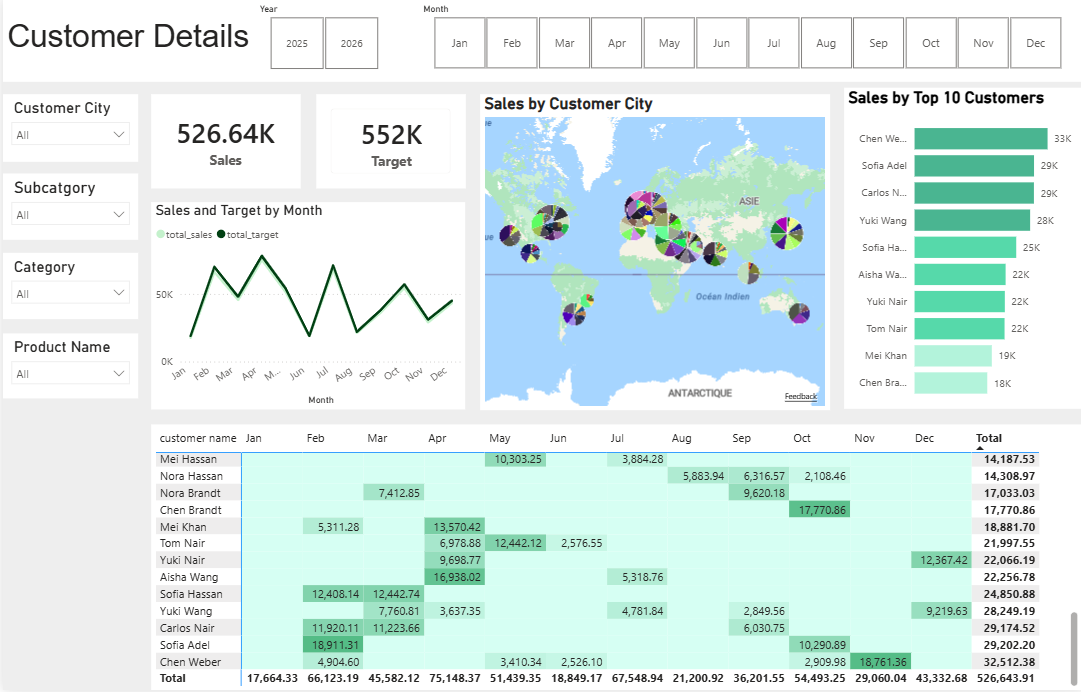

The page's visual inventory and layout, read from the dashboard file:
{"tool":"powerbi","page":{"name":"Customer Details","canvas":[1280,820],"ordinal":1},"visuals":[{"type":"textbox","box":[0,0,1280.5,99.5],"z":0},{"type":"slicer","title":"Month","fields":{"Values":["dim_date.Month Name"]},"box":[485,1.7,791.7,88.3],"z":1000},{"type":"slicer","fields":{"Values":["dim_product.subcatgory"]},"box":[0,208.3,160,78.3],"z":2000},{"type":"slicer","fields":{"Values":["dim_customer.city_name"]},"box":[0,113.3,160,80],"z":3000},{"type":"slicer","fields":{"Values":["dim_product.category"]},"box":[0,301.7,160,78.3],"z":4000},{"type":"slicer","fields":{"Values":["dim_product.product_name"]},"box":[0,396.7,160,76.7],"z":5000},{"type":"slicer","title":"Month","fields":{"Values":["dim_date.year"]},"box":[290.3,1.4,177.2,89.3],"z":6000},{"type":"lineChart","title":"Sales and Target by Month","fields":{"Y":["_mesure.total_sales","_mesure.total_target"],"Category":["dim_date.Month Name"]},"box":[175,241.7,371.7,245],"z":9000},{"type":"barChart","title":"Sales by Top 10 Customers","fields":{"Y":["_mesure.total_sales"],"Category":["dim_customer.contact_name"]},"box":[995,106.7,281.7,380],"z":10000},{"type":"azureMap","title":"Sales by Customer City","fields":{"Category":["dim_customer.city_name"],"Series":["fact_sale.line_total"],"Size":["Sum(fact_sale.line_total)"]},"box":[565,113.3,413.3,373.3],"z":12000},{"type":"cardVisual","title":"Sales","fields":{"Data":["_mesure.total_sales"]},"box":[175,113.3,176.7,111.7],"z":12001},{"type":"cardVisual","title":"Sales","fields":{"Data":["_mesure.total_target"]},"box":[370,113.3,176.7,111.7],"z":12002},{"type":"pivotTable","fields":{"Rows":["dim_customer.contact_name"],"Columns":["dim_date.Month Name"],"Values":["Sum(fact_sale.line_total)"]},"box":[175,505,1101.7,315],"z":12003}]}

Visuals, with their boxes in screenshot pixels (x1, y1, x2, y2), scaled from the page's 1280x820 canvas onto the 1081x692 screenshot:
textbox: box=[0, 0, 1080, 84]
"Month" slicer: box=[410, 1, 1078, 76]
slicer - dim_product.subcatgory: box=[0, 176, 135, 242]
slicer - dim_customer.city_name: box=[0, 96, 135, 163]
slicer - dim_product.category: box=[0, 255, 135, 321]
slicer - dim_product.product_name: box=[0, 335, 135, 400]
"Month" slicer: box=[245, 1, 395, 77]
"Sales and Target by Month" lineChart: box=[148, 204, 462, 411]
"Sales by Top 10 Customers" barChart: box=[840, 90, 1078, 411]
"Sales by Customer City" azureMap: box=[477, 96, 826, 411]
"Sales" cardVisual: box=[148, 96, 297, 190]
"Sales" cardVisual: box=[312, 96, 462, 190]
pivotTable - dim_customer.contact_name x dim_date.Month Name: box=[148, 426, 1078, 691]
